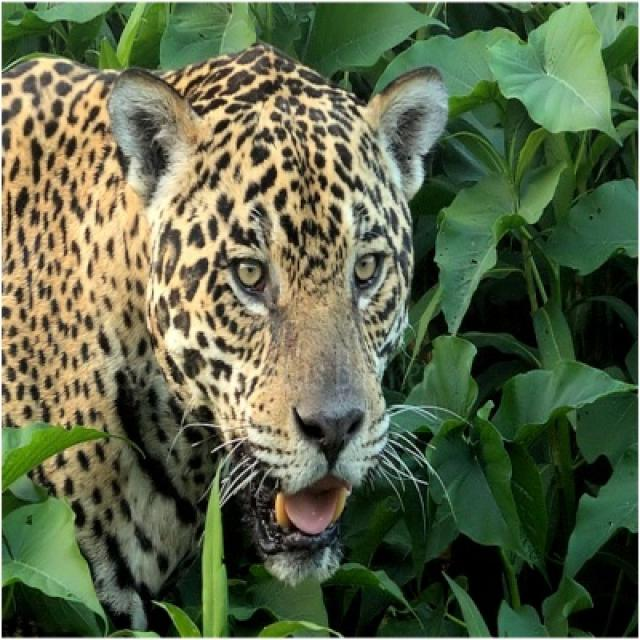Jaguar: (0, 43, 451, 638)
